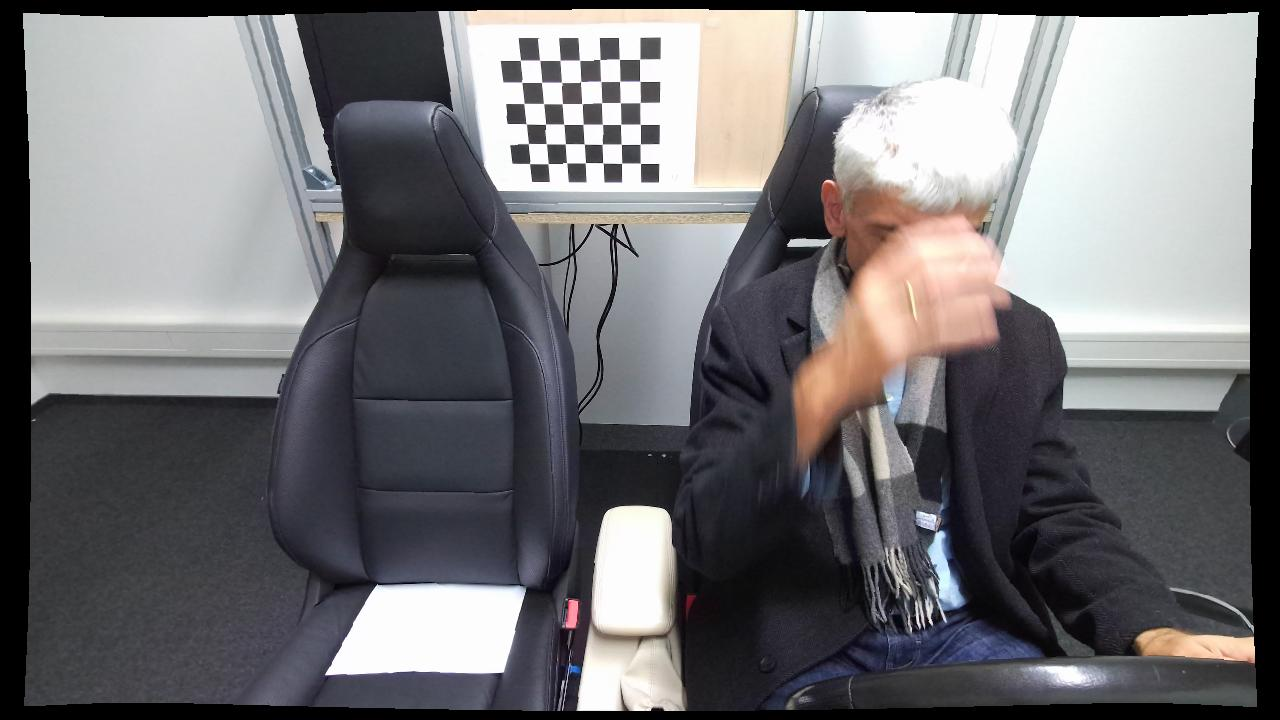Distracted: (663, 70, 1112, 710)
